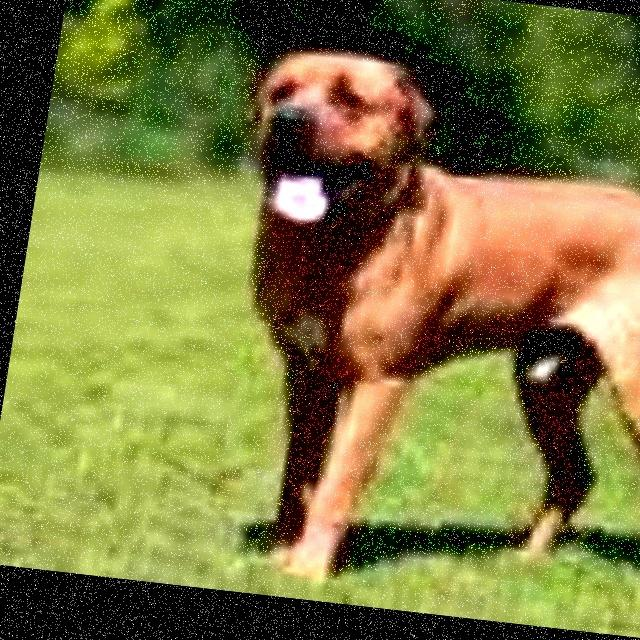dog: (221, 23, 471, 256)
